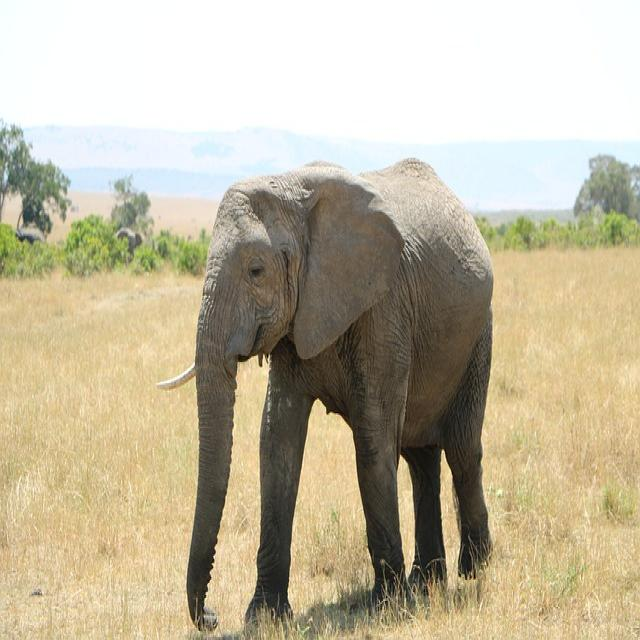FIL: (147, 135, 504, 620)
